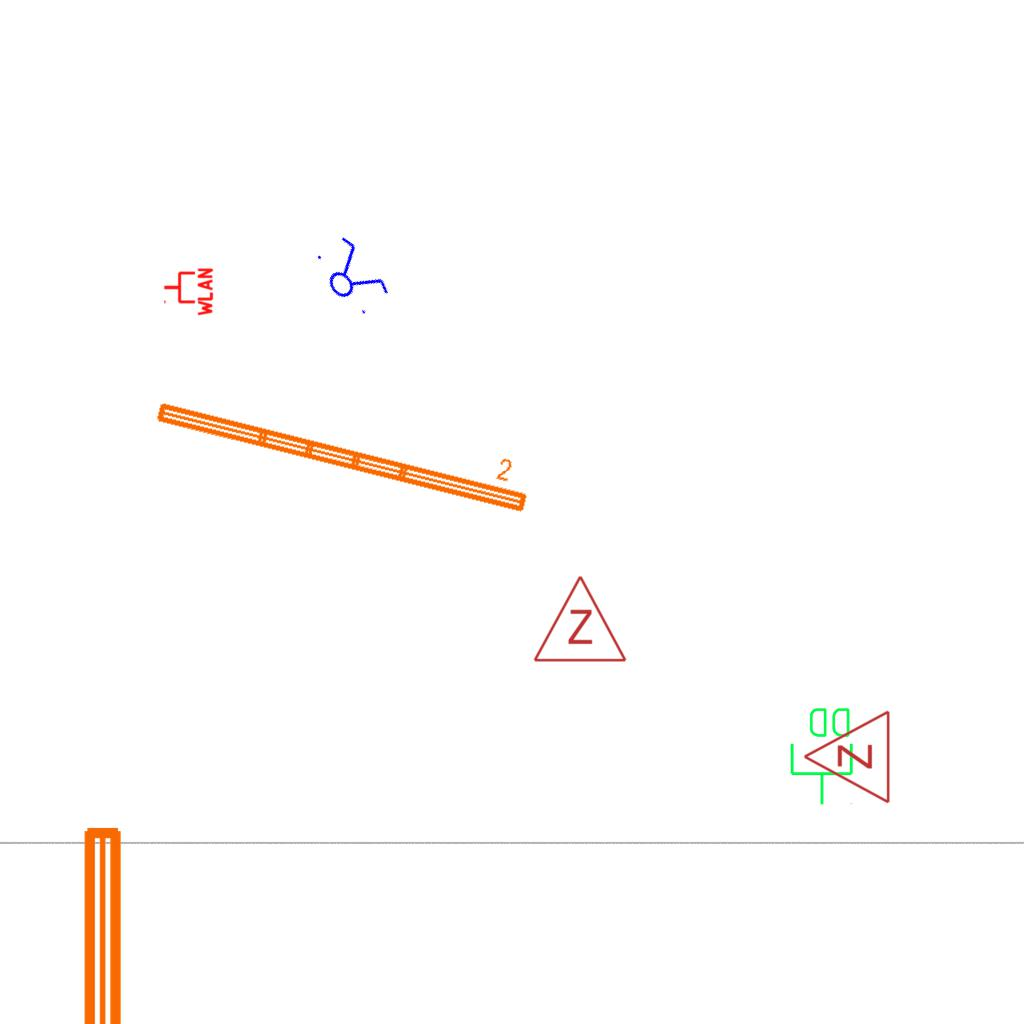Ambulanz_Pendelleuchte_LED: (149, 371, 540, 519), (72, 817, 184, 1024)
Datenanschluss_zweifach: (788, 704, 857, 807)
Serienschalter: (305, 228, 397, 324)
WLAN: (162, 266, 214, 318)
Zimmersignalleuchte: (530, 569, 628, 669), (797, 709, 897, 807)
